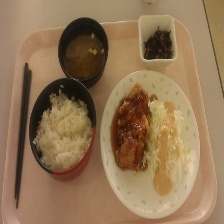sabzi: (111, 82, 149, 172)
